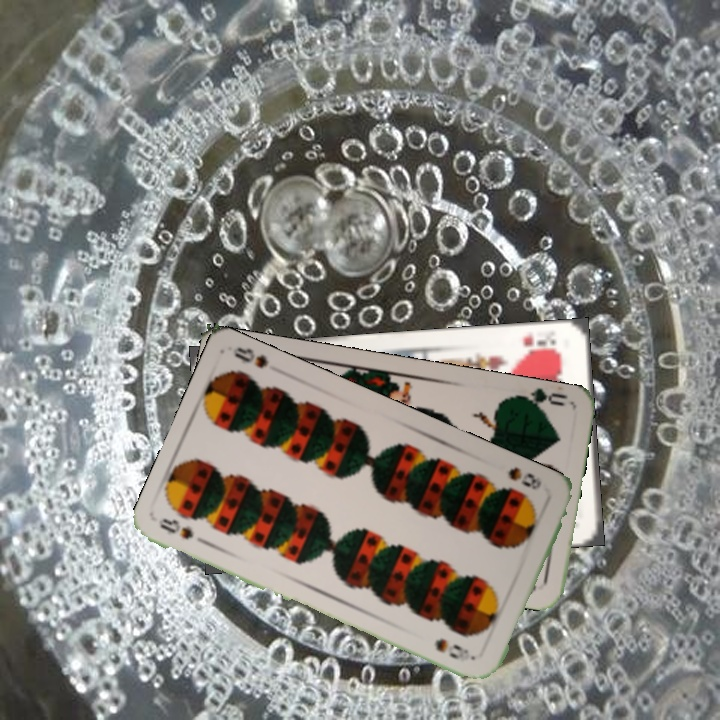GO: (510, 385, 570, 415)
HK: (518, 330, 564, 356)
S8: (155, 514, 211, 548), (504, 463, 544, 493)
